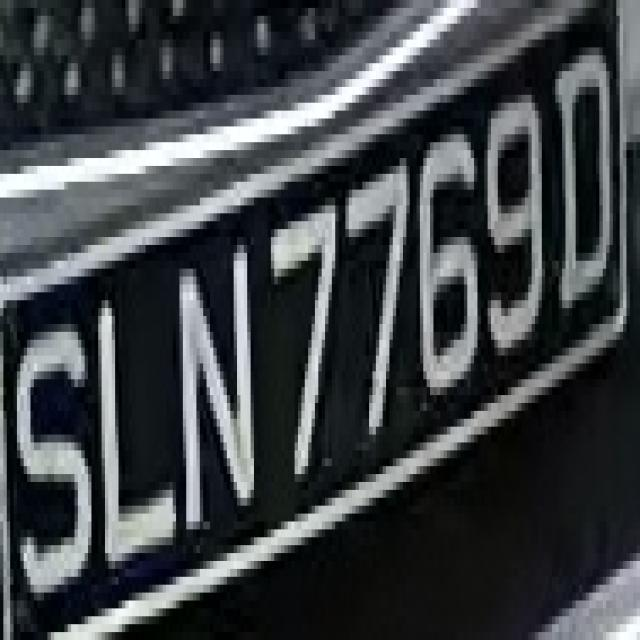6: (410, 119, 488, 418)
7: (261, 198, 352, 506), (328, 150, 410, 474)
9: (474, 71, 552, 364)
D: (545, 24, 623, 332)
L: (84, 277, 180, 561)
N: (162, 245, 268, 537)
S: (10, 300, 98, 640)
